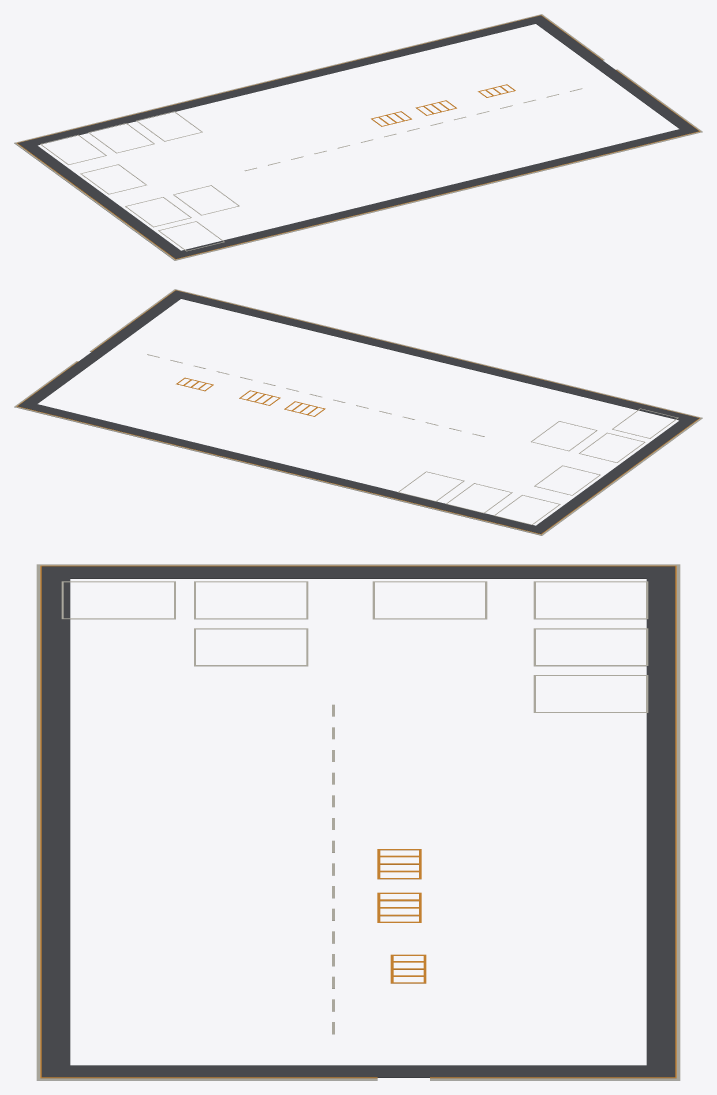
The model's file is fh_apron_trade_outpost.glb.
The picture shows the model from 3 angles, top to bottom: view 1: azimuth 30°, elevation 25°; view 2: azimuth 150°, elevation 25°; view 3: azimuth 270°, elevation 25°; orthographic projection. The views are drawn at different scales.
Parts seen in each view (by area): view 1: fh_apron_trade_outpost; view 2: fh_apron_trade_outpost; view 3: fh_apron_trade_outpost.
Boxes of the visible parts, box(x1,y1,x2,y2) form: fh_apron_trade_outpost: box(14, 14, 702, 260); fh_apron_trade_outpost: box(14, 289, 702, 535); fh_apron_trade_outpost: box(36, 564, 680, 1080).
Size of the model in its own units: 34.1 by 0.036 by 18.
